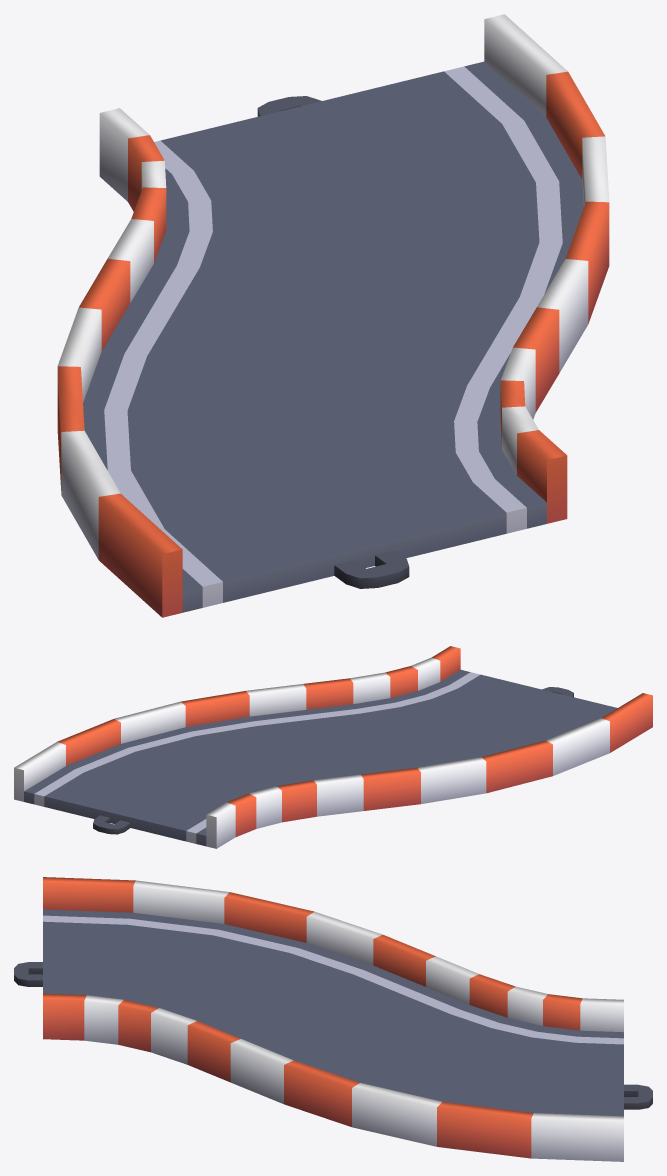
The model's file is kenney-toy-car-track-road-wide-curve.glb.
3 views of the same model, one above another, from view 1: azimuth 30°, elevation 25°; view 2: azimuth 150°, elevation 25°; view 3: azimuth 270°, elevation 25° (orthographic). The views are drawn at different scales.
Visible parts, largest first — view 1: track-road-wide-curve; view 2: track-road-wide-curve; view 3: track-road-wide-curve.
Part boxes in pixels (box(x1,y1,x2,y2)): track-road-wide-curve: box(57, 14, 609, 617); track-road-wide-curve: box(14, 646, 652, 848); track-road-wide-curve: box(14, 877, 652, 1161).
Size of the model in its own units: 4 by 0.2997 by 4.4.
Materials: 1 (1 with a texture image).
